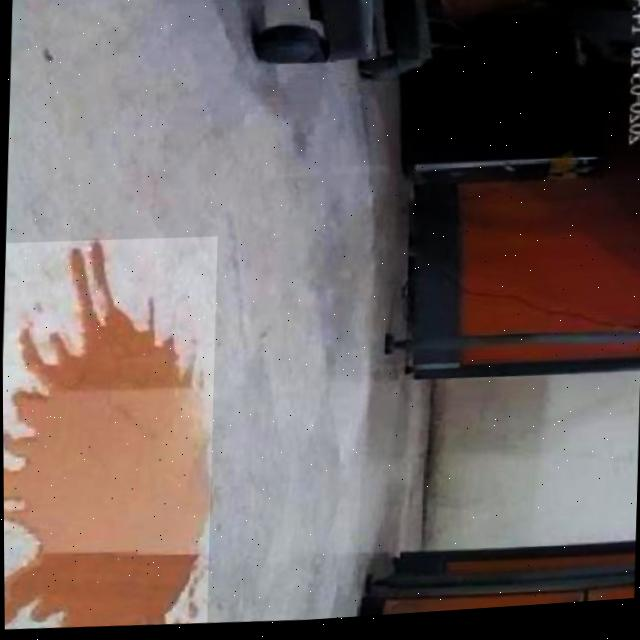spillage: (3, 241, 208, 628)
